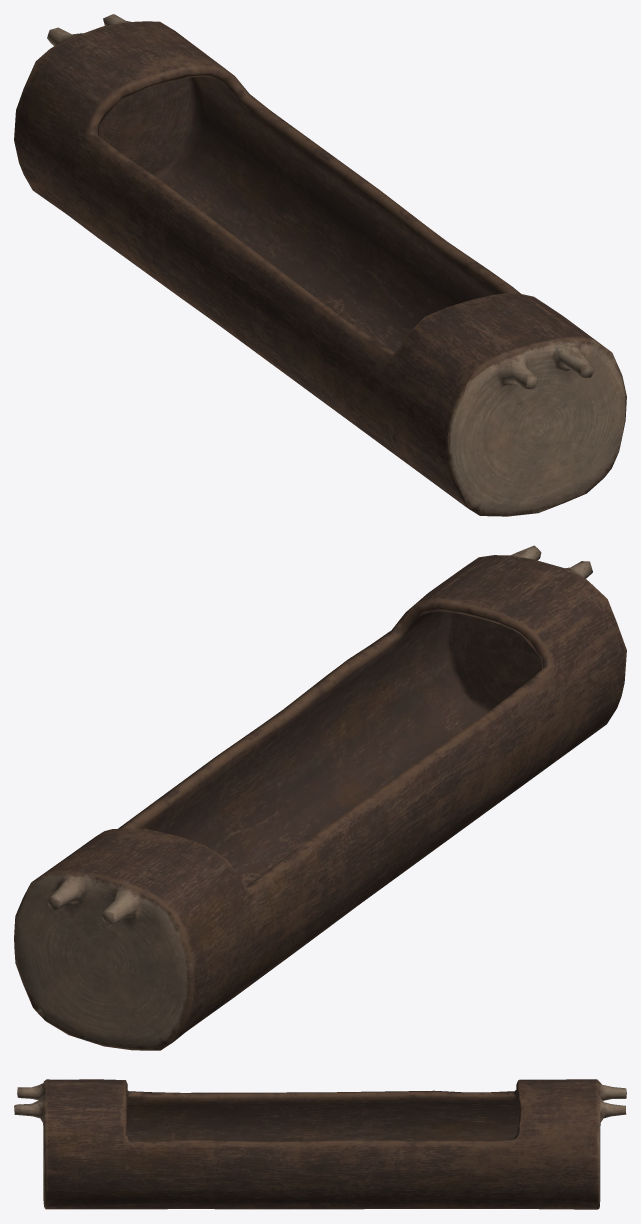
The model's file is SM_CanoaChicha.glb.
The picture shows the model from 3 angles, top to bottom: view 1: azimuth 30°, elevation 25°; view 2: azimuth 150°, elevation 25°; view 3: azimuth 270°, elevation 25°; orthographic projection. The views are drawn at different scales.
Parts seen in each view (by area): view 1: SM_CanoaChicha; view 2: SM_CanoaChicha; view 3: SM_CanoaChicha.
Boxes of the visible parts, x1,y1,x2,y2 form: SM_CanoaChicha: (14,14,626,516); SM_CanoaChicha: (14,545,626,1050); SM_CanoaChicha: (14,1079,626,1209).
Size of the model in its own units: 0.5406 by 0.4815 by 2.46.
Materials: 1 (1 with a texture image).
